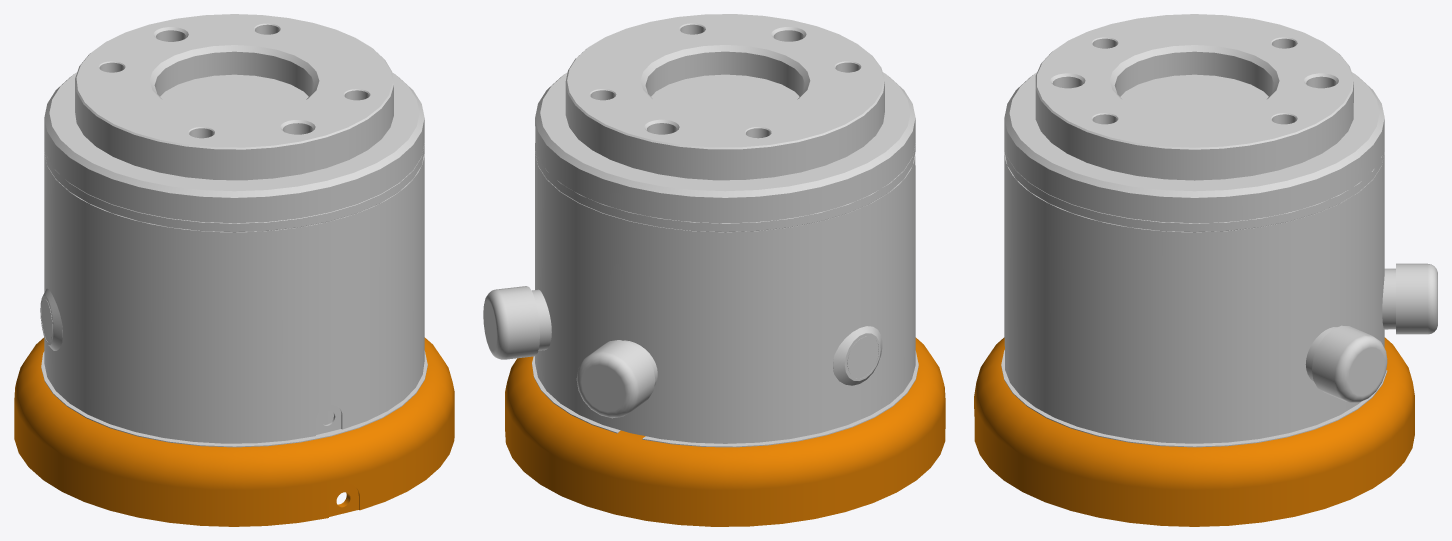
The picture shows the model from 3 angles, left to right: view 1: azimuth 30°, elevation 25°; view 2: azimuth 150°, elevation 25°; view 3: azimuth 270°, elevation 25°; orthographic projection.
Parts seen in each view (by area): view 1: FBXASC195FBXASC141FBXASC194FBXASC185FBXASC195FBXASC140FBXASC; view 2: FBXASC195FBXASC141FBXASC194FBXASC185FBXASC195FBXASC140FBXASC; view 3: FBXASC195FBXASC141FBXASC194FBXASC185FBXASC195FBXASC140FBXASC.
Part boxes in pixels (<box>): FBXASC195FBXASC141FBXASC194FBXASC185FBXASC195FBXASC140FBXASC: <box>14,14,454,526</box>; FBXASC195FBXASC141FBXASC194FBXASC185FBXASC195FBXASC140FBXASC: <box>483,14,945,526</box>; FBXASC195FBXASC141FBXASC194FBXASC185FBXASC195FBXASC140FBXASC: <box>974,14,1437,526</box>.
Size of the model in its own units: 0.087 by 0.0915 by 0.0768.
